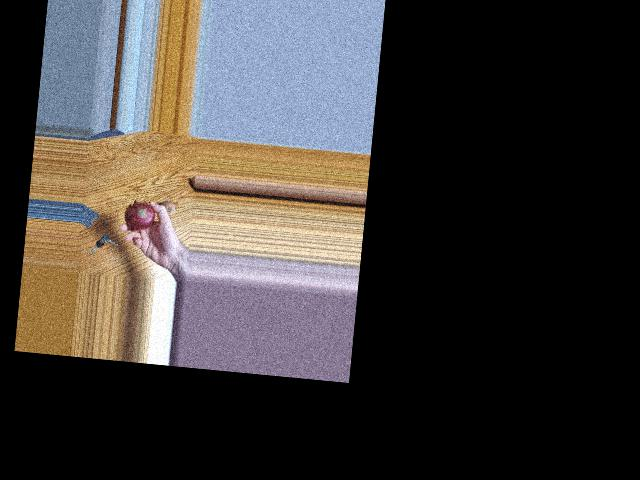onion: (161, 199, 181, 220)
